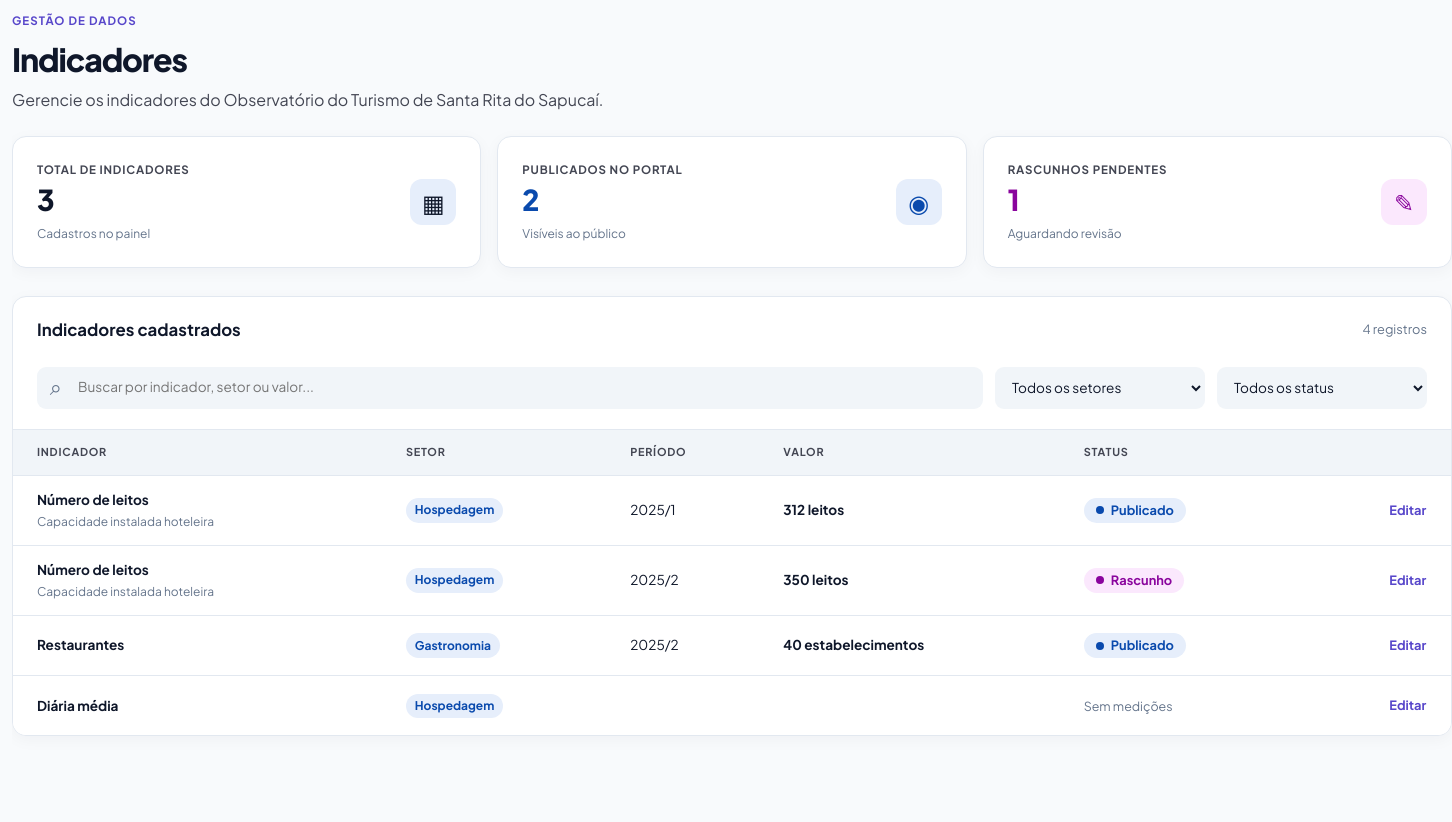
Test: AdminPage › filtra a listagem pelo status selecionado sem alterar os contadores gerais
Check: the text "Publicado" is shown 2 times, box [1084, 498, 1186, 523]; [1084, 633, 1186, 658]
Select "Rascunho" in the dropdown named "Filtrar por status": (1322, 388) [1217, 367, 1427, 409]
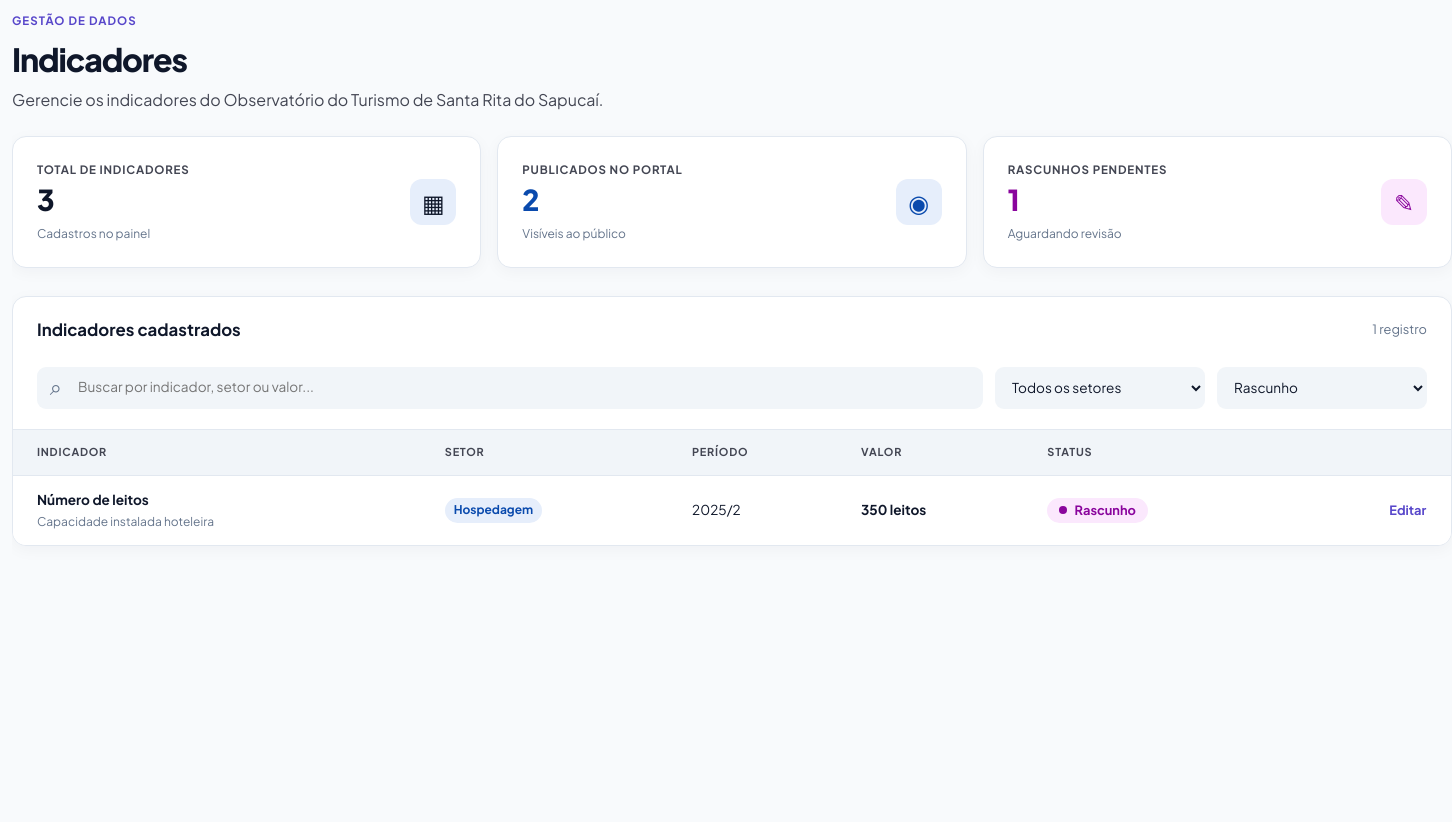
Check: the text "Número de leitos" is shown, box [37, 491, 149, 508]
Check: the text "Restaurantes" is gone
